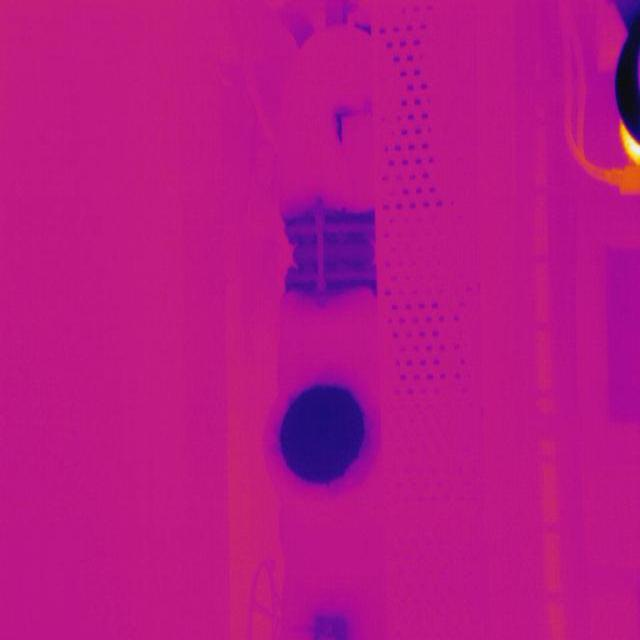leakage: (328, 94, 358, 144)
